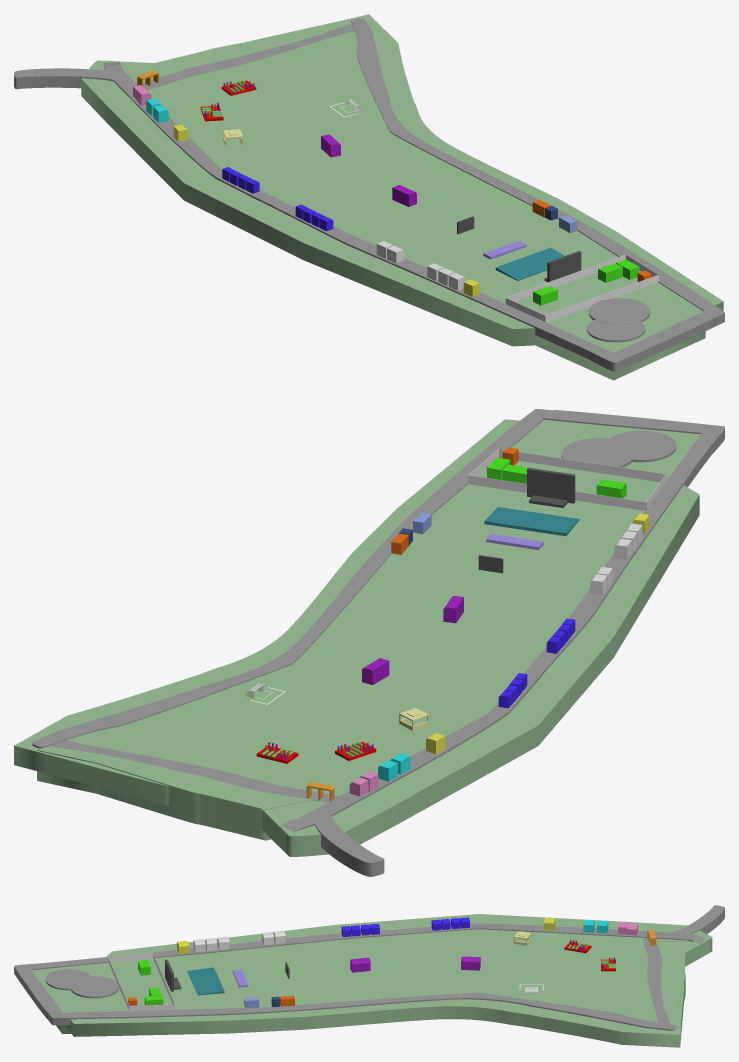
The model's file is glbmaisrecente.glb.
The picture shows the model from 3 angles, top to bottom: view 1: azimuth 30°, elevation 25°; view 2: azimuth 150°, elevation 25°; view 3: azimuth 270°, elevation 25°; orthographic projection. The views are drawn at different scales.
Parts seen in each view (by area): view 1: BézierCurve, BézierCurve.009, BézierCurve.010, BézierCurve.003, BézierCurve.007, BézierCurve.008, Cylinder, BézierCurve.004, BézierCurve.006, Cube.067, Cube.022, Cube (+1 smaller); view 2: BézierCurve, BézierCurve.009, BézierCurve.010, BézierCurve.007, BézierCurve.003, Cylinder, BézierCurve.004, BézierCurve.008, BézierCurve.006, Cube.067, Cube.022, Cube.073 (+1 smaller); view 3: BézierCurve, BézierCurve.010, BézierCurve.007, BézierCurve.009, BézierCurve.003, Cylinder, BézierCurve.004, BézierCurve.008, Cube.067, BézierCurve.006, Cube.024, Cube.010 (+2 smaller).
Boxes of the visible parts, x1=… form: BézierCurve: x1=123, y1=18, x2=705, y2=380; BézierCurve.009: x1=81, y1=60, x2=551, y2=346; BézierCurve.010: x1=247, y1=14, x2=723, y2=311; BézierCurve.003: x1=103, y1=62, x2=613, y2=363; BézierCurve.007: x1=351, y1=18, x2=724, y2=326; BézierCurve.008: x1=593, y1=310, x2=715, y2=371; Cylinder: x1=587, y1=298, x2=650, y2=342; BézierCurve.004: x1=143, y1=24, x2=354, y2=90; BézierCurve.006: x1=14, y1=68, x2=113, y2=89; Cube.067: x1=495, y1=247, x2=564, y2=280; Cube.022: x1=544, y1=275, x2=658, y2=322; Cube: x1=505, y1=254, x2=625, y2=303; BézierCurve: x1=37, y1=419, x2=699, y2=840; BézierCurve.009: x1=261, y1=485, x2=699, y2=856; BézierCurve.010: x1=14, y1=419, x2=519, y2=805; BézierCurve.007: x1=32, y1=409, x2=551, y2=748; BézierCurve.003: x1=281, y1=433, x2=716, y2=831; Cylinder: x1=561, y1=430, x2=676, y2=467; BézierCurve.004: x1=50, y1=740, x2=338, y2=802; BézierCurve.008: x1=542, y1=410, x2=724, y2=452; BézierCurve.006: x1=315, y1=815, x2=384, y2=876; Cube.067: x1=484, y1=507, x2=579, y2=536; Cube.022: x1=499, y1=449, x2=666, y2=482; Cube.073: x1=527, y1=467, x2=575, y2=503; BézierCurve: x1=31, y1=929, x2=688, y2=1034; BézierCurve.010: x1=66, y1=984, x2=684, y2=1047; BézierCurve.007: x1=48, y1=992, x2=675, y2=1030; BézierCurve.009: x1=106, y1=914, x2=712, y2=966; BézierCurve.003: x1=30, y1=923, x2=704, y2=970; Cylinder: x1=45, y1=969, x2=118, y2=998; BézierCurve.004: x1=643, y1=937, x2=670, y2=1024; BézierCurve.008: x1=14, y1=963, x2=62, y2=1019; Cube.067: x1=187, y1=967, x2=224, y2=995; BézierCurve.006: x1=673, y1=905, x2=724, y2=933; Cube.024: x1=108, y1=952, x2=152, y2=962; Cube.010: x1=350, y1=957, x2=370, y2=972.
Size of the model in its own units: 81.64 by 11.61 by 191.
